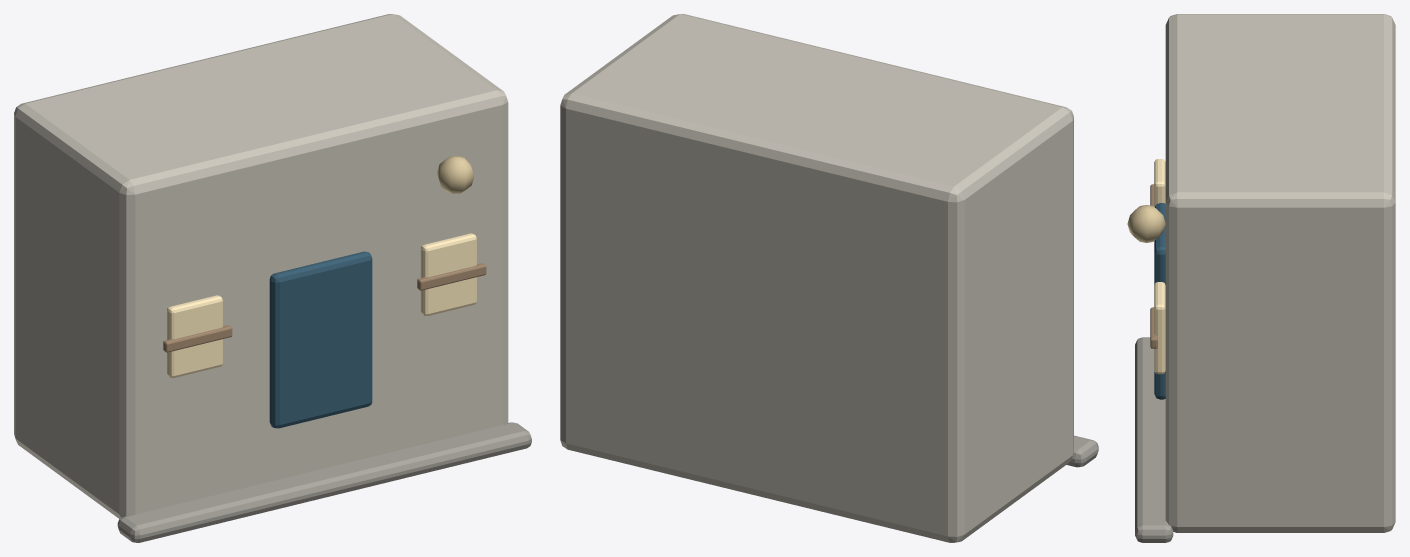
Rendered from home_floor.glb.
3 views of the same model, side by side, from view 1: azimuth 30°, elevation 25°; view 2: azimuth 150°, elevation 25°; view 3: azimuth 270°, elevation 25° (orthographic). The views are drawn at different scales.
Visible parts, largest first — view 1: home_floor_Palette, home_floor_Glow; view 2: home_floor_Palette; view 3: home_floor_Palette, home_floor_Glow.
Part boxes in pixels (left/top/right/bottom): home_floor_Palette: left=14, top=14, right=531, bottom=542; home_floor_Glow: left=167, top=233, right=476, bottom=377; home_floor_Palette: left=560, top=14, right=1098, bottom=542; home_floor_Palette: left=1127, top=14, right=1395, bottom=542; home_floor_Glow: left=1154, top=159, right=1165, bottom=374.
Size of the model in its own units: 1.2 by 0.995 by 0.7.
